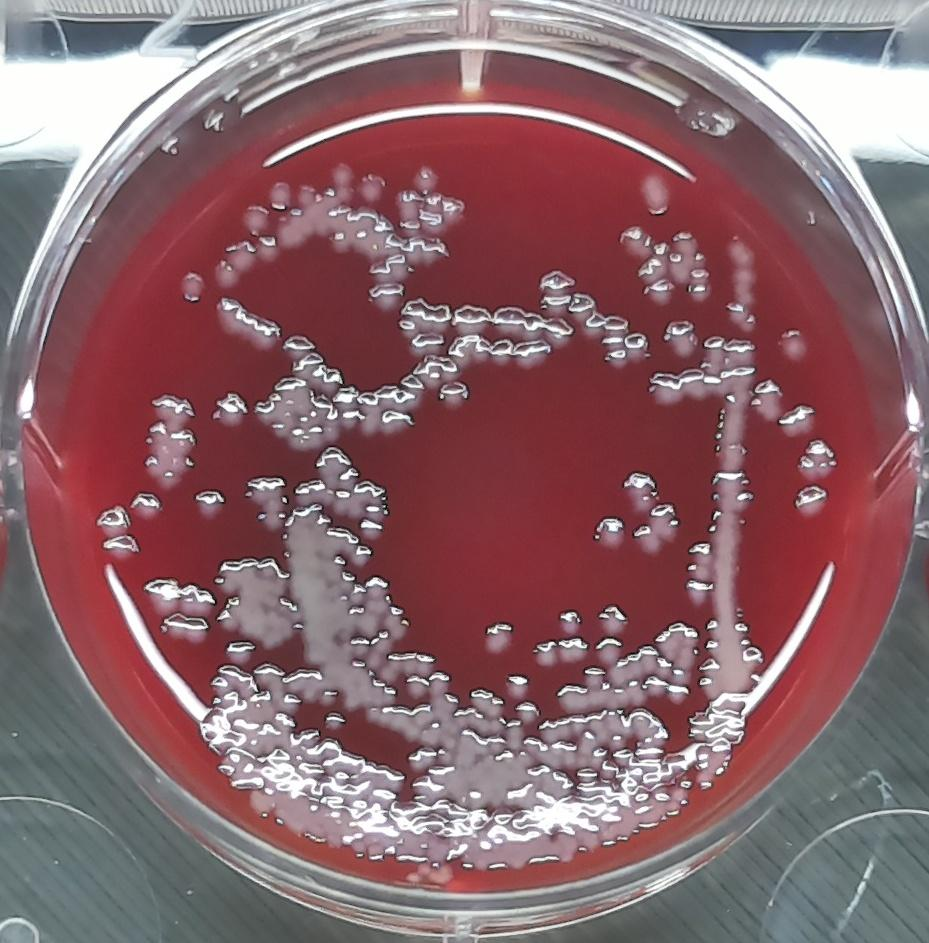paeruginosa: (712, 395, 755, 628), (623, 469, 682, 560), (724, 231, 763, 335), (212, 295, 280, 352), (283, 333, 343, 395), (242, 472, 291, 535), (654, 616, 699, 667), (796, 434, 840, 484), (419, 192, 469, 236), (684, 535, 713, 608), (208, 388, 251, 430), (589, 513, 628, 553), (640, 171, 673, 218), (480, 618, 517, 658), (191, 484, 229, 522), (594, 600, 633, 637), (617, 222, 652, 262), (537, 265, 579, 295), (437, 381, 473, 414), (174, 270, 206, 304), (410, 164, 440, 197)
